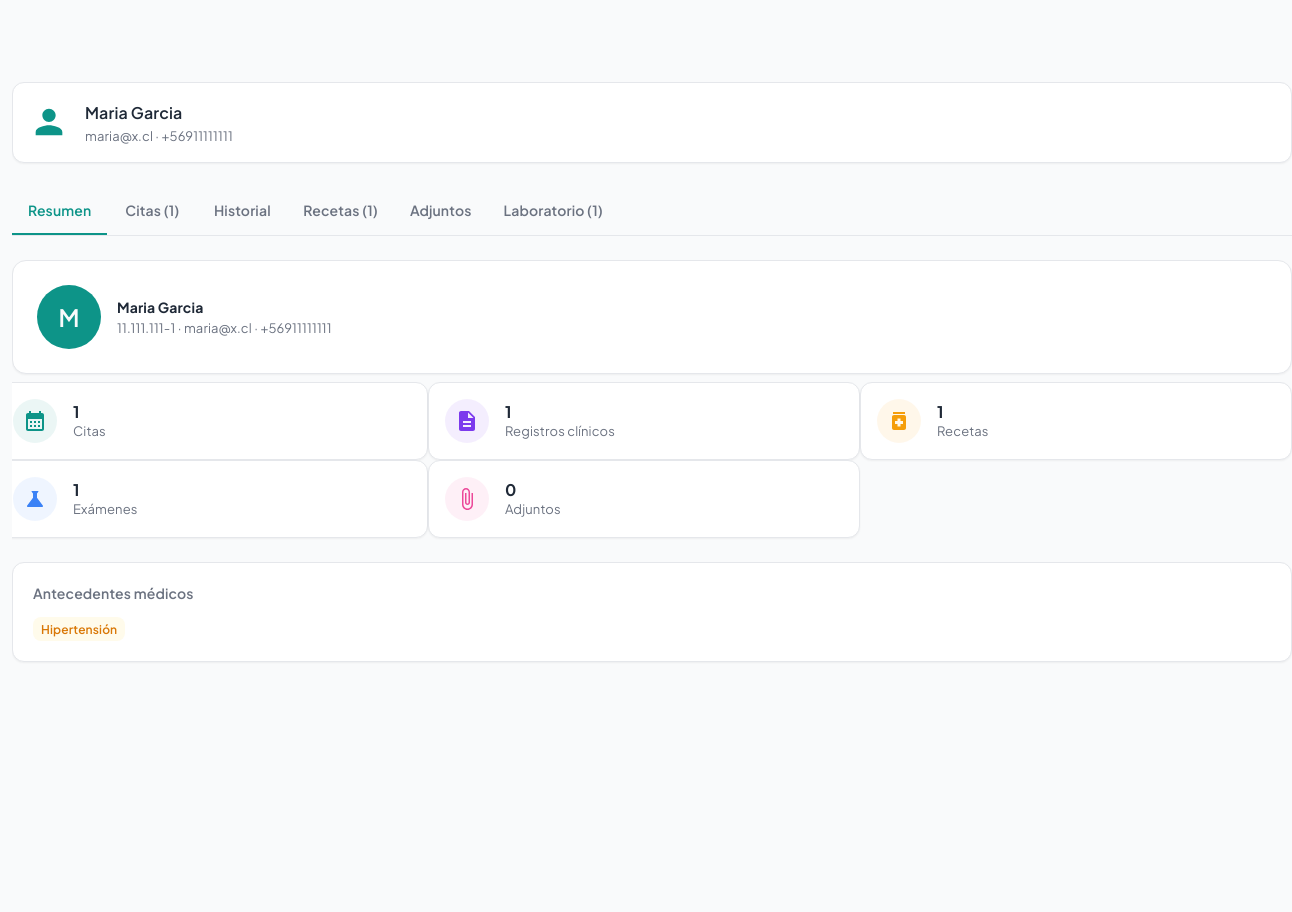
it: DoctorPatientHistoryPage › switches to the history tab and lists clinical records + medical history
Check: the 1st heading "Maria Garcia" is shown, box [85,102,182,123]
Click the tab "Historial" at (242, 211), box [197,187,287,235]
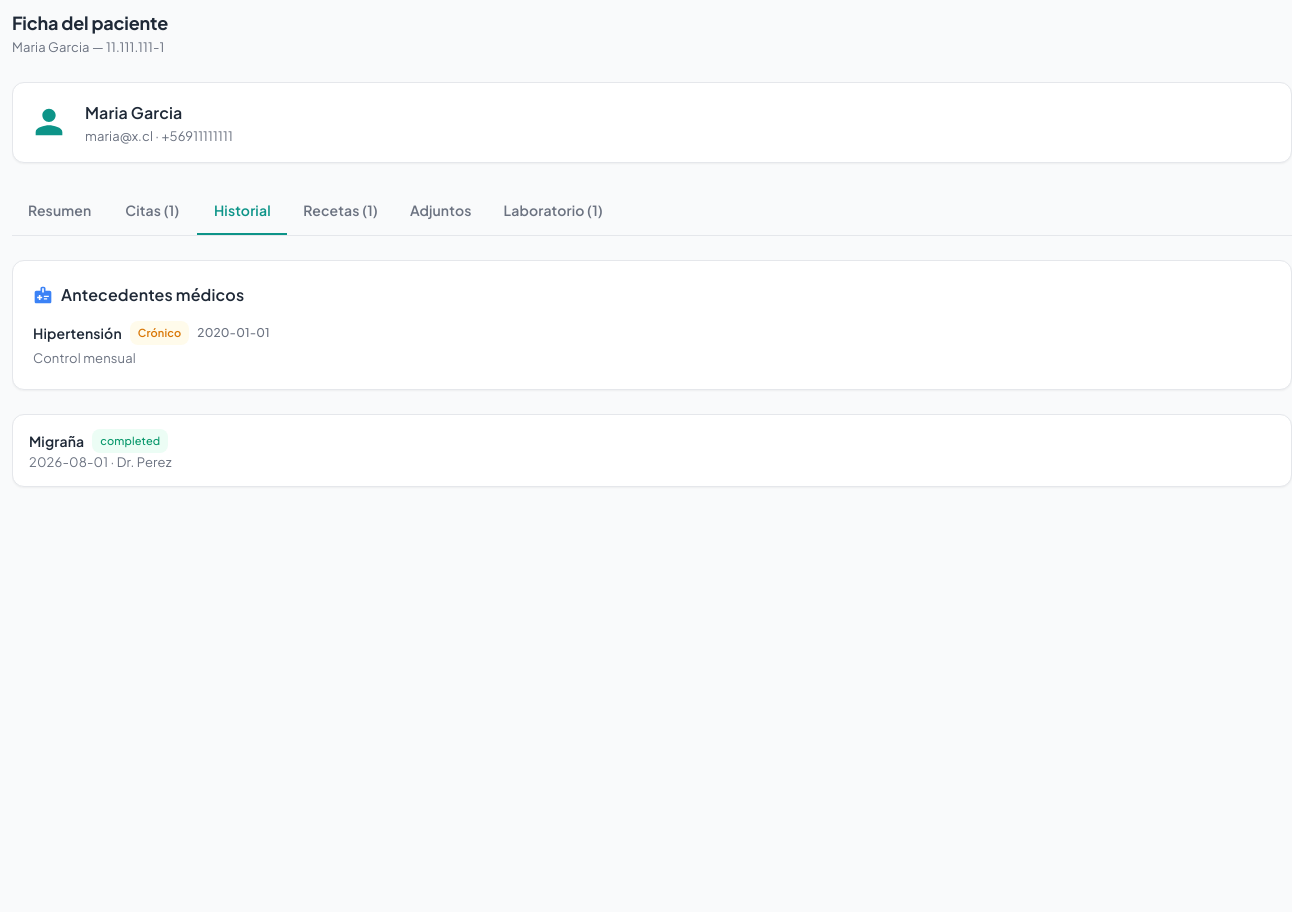
Check: the text "Hipertensión" is shown, box [33,322,122,344]
Check: the text "Migraña" is shown
Click the text "Migraña" at (57, 441), box [29,430,84,452]
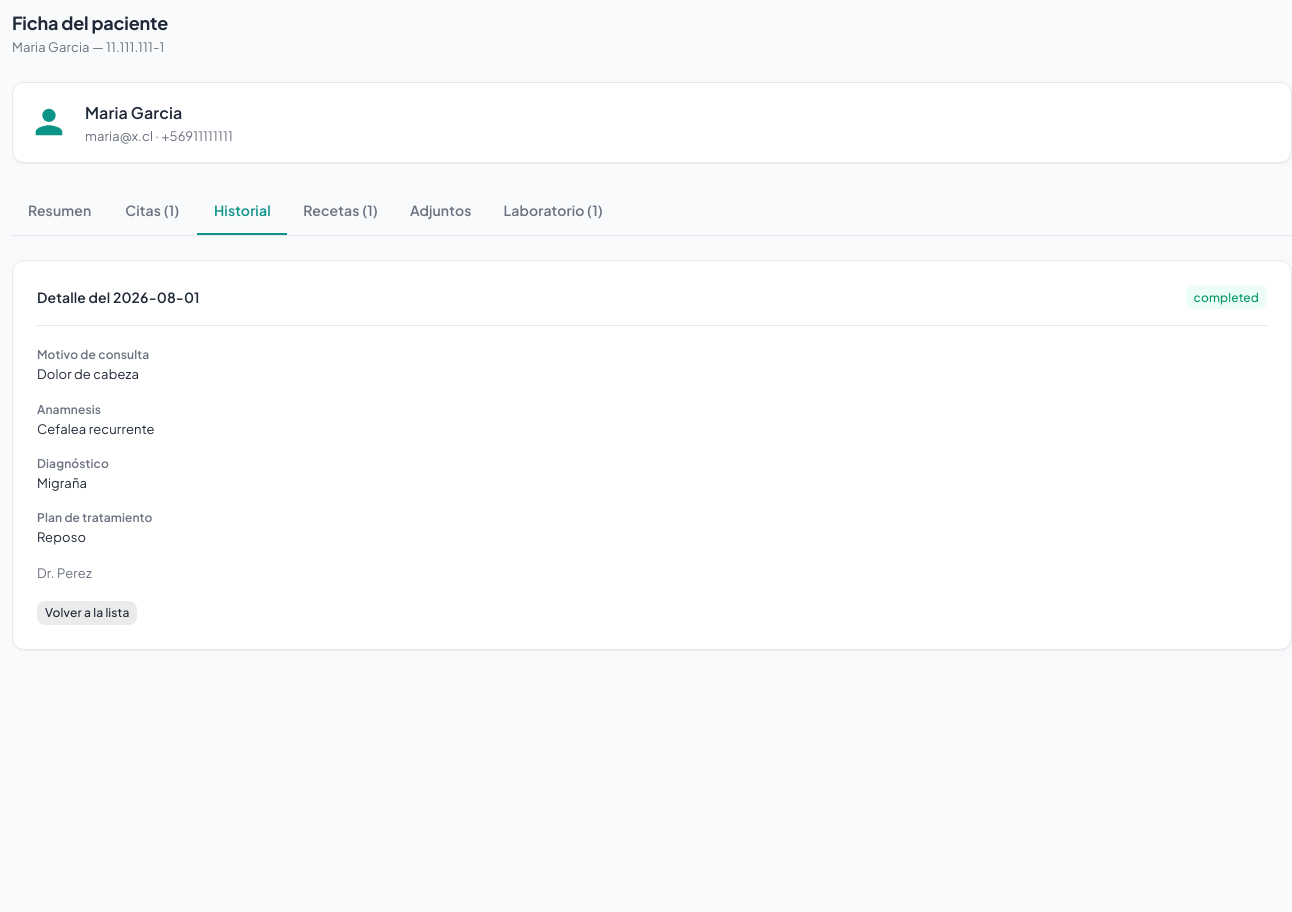
Check: the text "Dolor de cabeza" is shown, box [37,366,139,382]
Check: the text "Cefalea recurrente" is shown, box [37,420,155,436]
Check: the text "Reposo" is shown, box [37,529,86,545]
Click the button "Volver a la lista" at (87, 613), box [37,601,137,625]
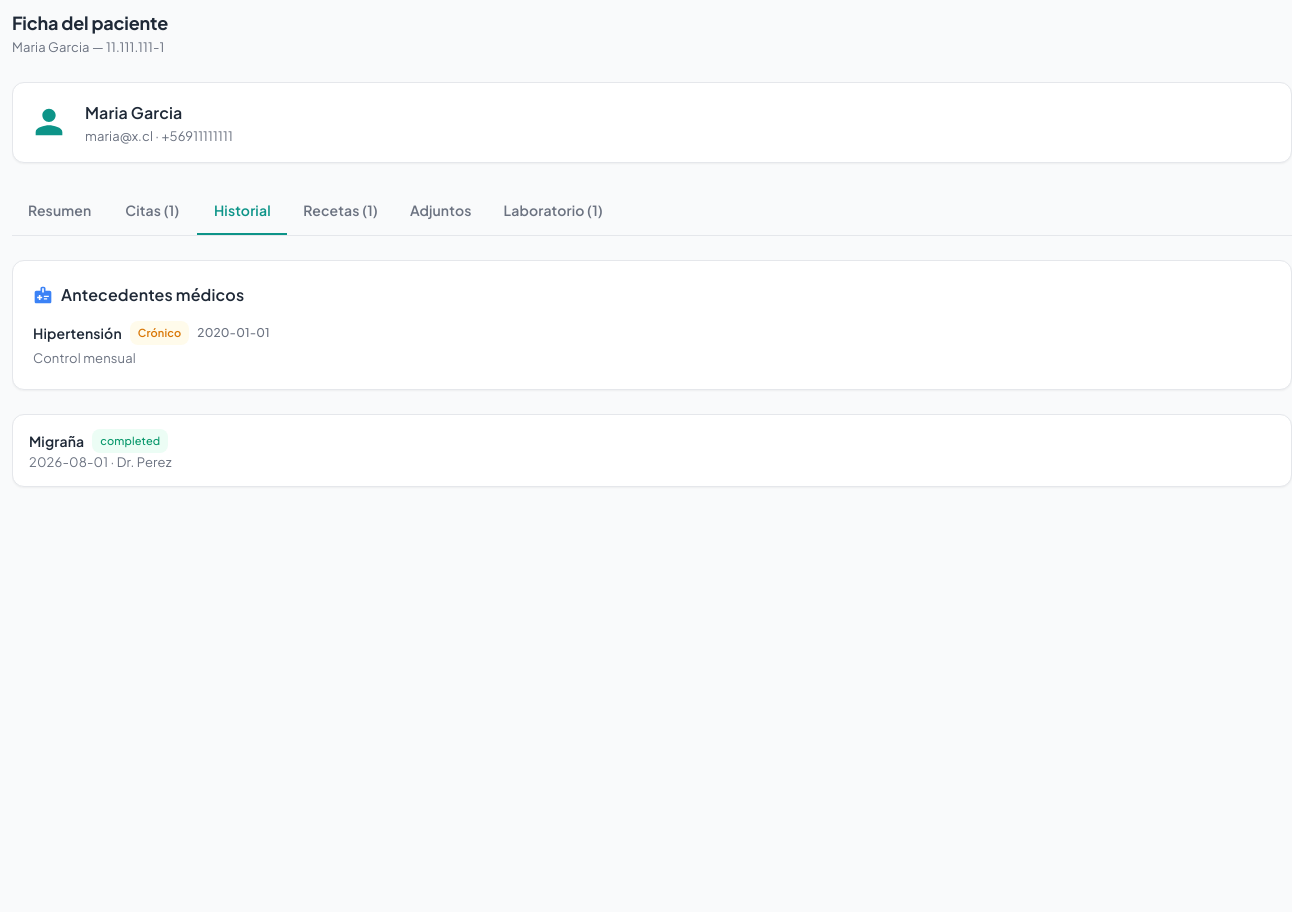
Check: the text "Dolor de cabeza" is gone
